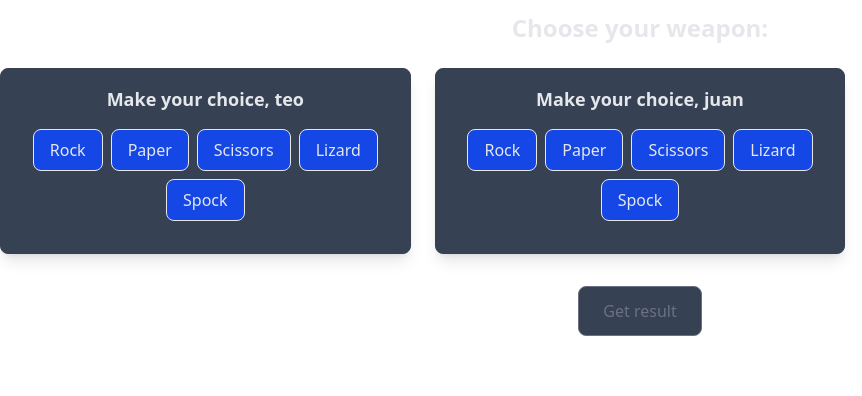
Test: Game Component › displays the result after player and computer make choices
What coordinates should you click on to do the following:
click the button "Scissors" below "teo"
I would click on:
 (244, 150)
Its box is [197,129,291,171].
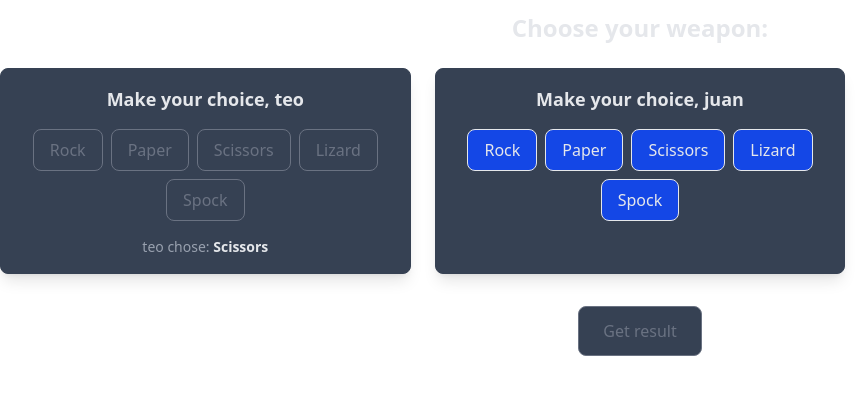
What coordinates should you click on to do the following:
click the button "Rock" below "juan"
I would click on:
 (502, 150)
Its box is [468,129,537,171].
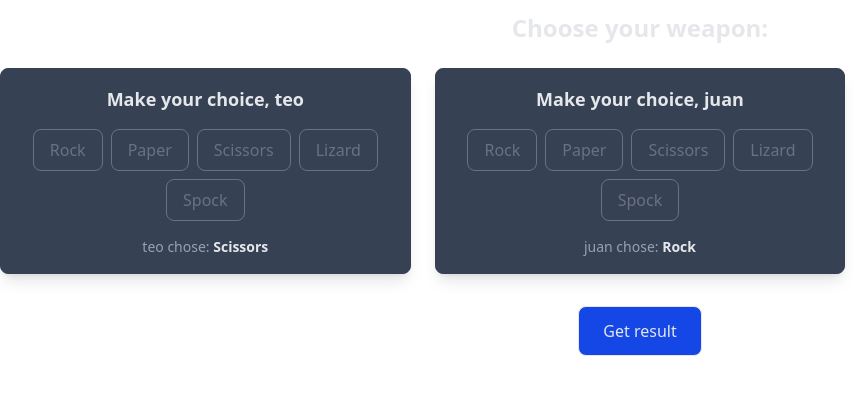
Now the text "teo chose:" reads "teo chose: Scissors", box [142,237,268,257]
Now the text "juan chose:" reads "juan chose: Rock", box [584,237,696,257]
What coordinates should you click on to do the following:
click the button "Get result"
I would click on:
 (640, 331)
Its box is [578,306,702,356].
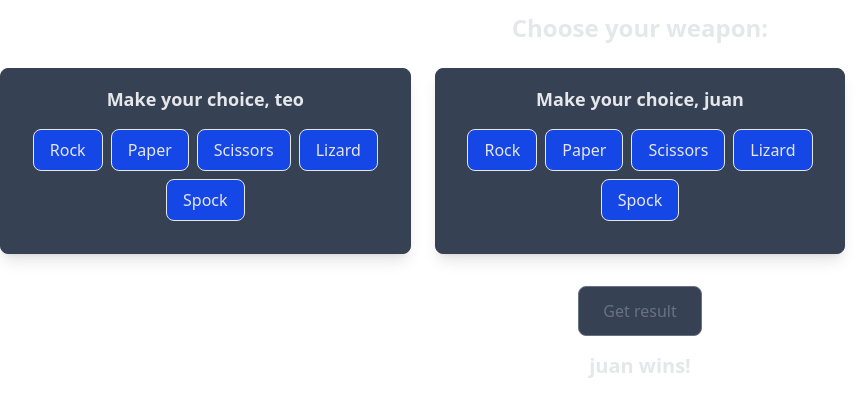
Now the heading "juan wins!" is shown, box [589,352,691,379]
